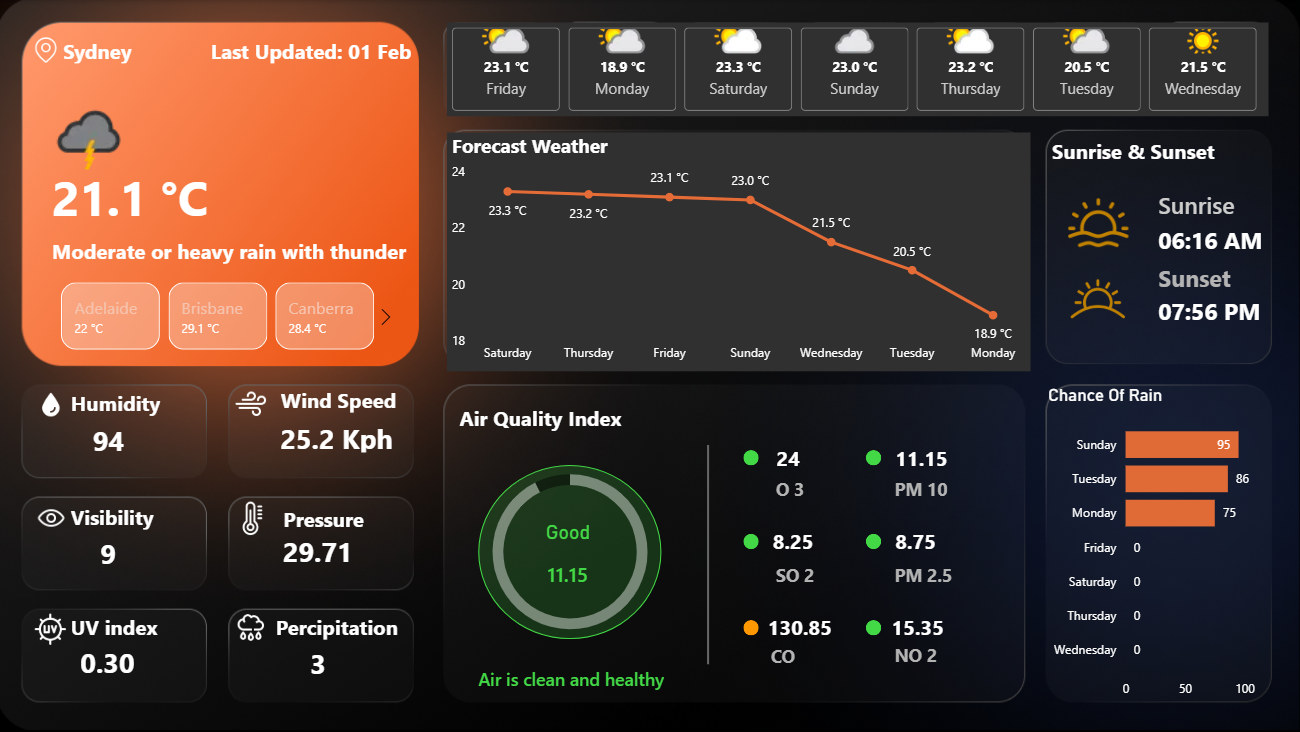

The dashboard page shown, as its layout file describes it:
{"tool":"powerbi","page":{"name":"Page 1","canvas":[1280,720],"ordinal":0},"visuals":[{"type":"shape","box":[471.8,456.5,179.8,170.9],"z":0},{"type":"donutChart","fields":{"Y":["_Measures.left_value_PM10","Sum(Current.current.air_quality.pm10)"]},"box":[462.9,441.2,200.2,200.2],"z":1000},{"type":"advancedSlicerVisual","fields":{"Values":["Locations.location.name"]},"box":[38.3,272.9,359.6,76.5],"z":2000},{"type":"shape","box":[53.6,145.4,174.7,95.6],"z":3000},{"type":"shape","box":[53.6,224.4,354.5,42.1],"z":4000},{"type":"shape","box":[65,29.4,106.7,39.3],"z":5000},{"type":"shape","box":[209.8,29.4,206.1,39.3],"z":6000},{"type":"image","box":[35.6,29.4,24.5,39.3],"z":7000},{"type":"image","box":[18.4,85.9,143.6,87.2],"z":8000},{"type":"image","box":[40.5,381.7,24.5,30.7],"z":9000},{"type":"image","box":[233.2,597.8,31.9,36.8],"z":10000},{"type":"image","box":[35.6,493.4,35.6,30.7],"z":11000},{"type":"image","box":[34.4,601.5,35.6,33.1],"z":12000},{"type":"image","box":[233.2,378.1,31.9,36.8],"z":13000},{"type":"image","box":[234.4,491,33.1,35.6],"z":14000},{"type":"shape","box":[72.4,601.5,89.6,28.2],"z":15000},{"type":"shape","box":[278.5,375.5,120.2,33.1],"z":16000},{"type":"shape","box":[72.4,487.3,106.8,39.3],"z":17000},{"type":"shape","box":[273.7,595.3,127.7,39.3],"z":18000},{"type":"shape","box":[281.1,493.4,111.7,30.7],"z":19000},{"type":"shape","box":[72.4,375.6,106.8,39.3],"z":20000},{"type":"cardVisual","fields":{"Data":["Sum(Current.current.humidity)"]},"box":[65.1,397.7,97,66.3],"z":21000},{"type":"cardVisual","fields":{"Data":["_Measures.Wind_Speed"]},"box":[249.1,396.3,192.6,65],"z":22000},{"type":"cardVisual","fields":{"Data":["Sum(Current.current.pressure_in)"]},"box":[251.6,506.9,133.8,65.1],"z":23000},{"type":"cardVisual","fields":{"Data":["Sum(Current.current.uv)"]},"box":[52.8,615,124,66.3],"z":24000},{"type":"cardVisual","fields":{"Data":["Sum(Current.current.precip_mm)"]},"box":[278.6,619.9,79.8,61.4],"z":25000},{"type":"cardVisual","fields":{"Data":["Sum(Current.current.vis_km)"]},"box":[72.4,509.4,73.6,63.8],"z":26000},{"type":"lineChart","title":"Forecast Weather","fields":{"Category":["Forecast By Day.Day_Name"],"Y":["Sum(Forecast By Day.forecast.forecastday.day.avgtemp_c)"]},"box":[441.7,130.1,573,234.4],"z":27000},{"type":"advancedSlicerVisual","fields":{"Values":["Forecast By Day.Day_Name"]},"box":[441.7,22.1,806.1,92],"z":28000},{"type":"shape","box":[1035.6,130.1,196.3,34.4],"z":29000},{"type":"shape","box":[1139.9,202.5,108,63.8],"z":30000},{"type":"shape","box":[1139.9,279.8,108,49.1],"z":31000},{"type":"shape","box":[1139.9,184.1,108,34.4],"z":32000},{"type":"shape","box":[1139.9,240.5,108,63.8],"z":33000},{"type":"image","box":[1044.2,257.7,72.4,71.2],"z":34000},{"type":"image","box":[1049.1,189,63.8,58.9],"z":35000},{"type":"clusteredBarChart","title":"Chance Of Rain","fields":{"Y":["Sum(Forecast By Day.forecast.forecastday.day.daily_chance_of_rain)"],"Category":["Forecast By Day.Day_Name"]},"box":[1027,377.9,225.8,316.6],"z":36000},{"type":"shape","box":[454,392.6,196.3,34.4],"z":37000},{"type":"cardVisual","title":"PM10","fields":{"Data":["Sum(Current.current.air_quality.pm10)"]},"box":[853.1,409.3,117.3,77.8],"z":38000},{"type":"shape","box":[881.1,465.4,89.3,28.1],"z":39000},{"type":"cardVisual","title":"PM10","fields":{"Data":["Sum(Current.current.air_quality.pm2_5)"]},"box":[853.1,490.9,117.3,77.8],"z":40000},{"type":"cardVisual","title":"PM10","fields":{"Data":["Sum(Current.current.air_quality.no2)"]},"box":[849.3,575.1,117.3,77.8],"z":41000},{"type":"cardVisual","title":"PM10","fields":{"Data":["Sum(Current.current.air_quality.co)"]},"box":[728.1,575.1,125,77.8],"z":42000},{"type":"cardVisual","title":"PM10","fields":{"Data":["Sum(Current.current.air_quality.o3)"]},"box":[735.8,409.3,117.3,77.8],"z":43000},{"type":"cardVisual","title":"PM10","fields":{"Data":["Sum(Current.current.air_quality.so2)"]},"box":[731.9,490.9,117.3,77.8],"z":44000},{"type":"shape","box":[760,629.9,89.3,28.1],"z":45000},{"type":"shape","box":[881.1,549.6,89.3,28.1],"z":46000},{"type":"shape","box":[763.8,549.6,89.3,28.1],"z":47000},{"type":"shape","box":[763.8,465.4,89.3,28.1],"z":48000},{"type":"shape","box":[881.1,631.2,89.3,24.2],"z":49000},{"type":"shape","box":[731.9,441.2,15.3,15.3],"z":50000},{"type":"shape","box":[731.9,524.1,15.3,15.3],"z":51000},{"type":"shape","box":[731.9,608.3,15.3,15.3],"z":52000},{"type":"shape","box":[853.1,524.1,15.3,15.3],"z":53000},{"type":"shape","box":[853.1,441.2,15.3,15.3],"z":54000},{"type":"shape","box":[853.1,608.3,15.3,15.3],"z":55000},{"type":"shape","box":[604.4,437.4,186.2,215.5],"z":56000},{"type":"cardVisual","fields":{"Data":["Sum(Current.current.air_quality.pm10)"]},"box":[502.4,511.3,117.3,77.8],"z":57000},{"type":"shape","box":[471.8,637.6,201.5,56.1],"z":58000}]}

Visuals, with their boxes in screenshot pixels (x1, y1, x2, y2), scaled from the page's 1280x720 canvas onto the 1300x732 screenshot:
shape: BBox(479, 464, 662, 638)
donutChart - _Measures.left_value_PM10 x Sum(Current.current.air_quality.pm10): BBox(470, 449, 673, 652)
advancedSlicerVisual - Locations.location.name: BBox(39, 277, 404, 355)
shape: BBox(54, 148, 232, 245)
shape: BBox(54, 228, 414, 271)
shape: BBox(66, 30, 174, 70)
shape: BBox(213, 30, 422, 70)
image: BBox(36, 30, 61, 70)
image: BBox(19, 87, 165, 176)
image: BBox(41, 388, 66, 419)
image: BBox(237, 608, 269, 645)
image: BBox(36, 502, 72, 533)
image: BBox(35, 612, 71, 645)
image: BBox(237, 384, 269, 422)
image: BBox(238, 499, 272, 535)
shape: BBox(74, 612, 165, 640)
shape: BBox(283, 382, 405, 415)
shape: BBox(74, 495, 182, 535)
shape: BBox(278, 605, 408, 645)
shape: BBox(285, 502, 399, 533)
shape: BBox(74, 382, 182, 422)
cardVisual - Sum(Current.current.humidity): BBox(66, 404, 165, 472)
cardVisual - _Measures.Wind_Speed: BBox(253, 403, 449, 469)
cardVisual - Sum(Current.current.pressure_in): BBox(256, 515, 391, 582)
cardVisual - Sum(Current.current.uv): BBox(54, 625, 180, 693)
cardVisual - Sum(Current.current.precip_mm): BBox(283, 630, 364, 693)
cardVisual - Sum(Current.current.vis_km): BBox(74, 518, 148, 583)
"Forecast Weather" lineChart: BBox(449, 132, 1031, 371)
advancedSlicerVisual - Forecast By Day.Day_Name: BBox(449, 22, 1267, 116)
shape: BBox(1052, 132, 1251, 167)
shape: BBox(1158, 206, 1267, 271)
shape: BBox(1158, 284, 1267, 334)
shape: BBox(1158, 187, 1267, 222)
shape: BBox(1158, 245, 1267, 309)
image: BBox(1061, 262, 1134, 334)
image: BBox(1065, 192, 1130, 252)
"Chance Of Rain" clusteredBarChart: BBox(1043, 384, 1272, 706)
shape: BBox(461, 399, 660, 434)
"PM10" cardVisual: BBox(866, 416, 986, 495)
shape: BBox(895, 473, 986, 502)
"PM10" cardVisual: BBox(866, 499, 986, 578)
"PM10" cardVisual: BBox(863, 585, 982, 664)
"PM10" cardVisual: BBox(739, 585, 866, 664)
"PM10" cardVisual: BBox(747, 416, 866, 495)
"PM10" cardVisual: BBox(743, 499, 862, 578)
shape: BBox(772, 640, 863, 669)
shape: BBox(895, 559, 986, 587)
shape: BBox(776, 559, 866, 587)
shape: BBox(776, 473, 866, 502)
shape: BBox(895, 642, 986, 666)
shape: BBox(743, 449, 759, 464)
shape: BBox(743, 533, 759, 548)
shape: BBox(743, 618, 759, 634)
shape: BBox(866, 533, 882, 548)
shape: BBox(866, 449, 882, 464)
shape: BBox(866, 618, 882, 634)
shape: BBox(614, 445, 803, 664)
cardVisual - Sum(Current.current.air_quality.pm10): BBox(510, 520, 629, 599)
shape: BBox(479, 648, 684, 705)
